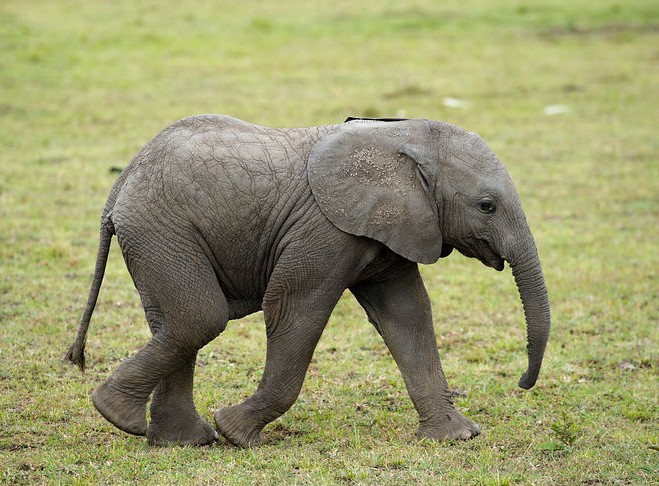africanelephant: (325, 100, 540, 332)
